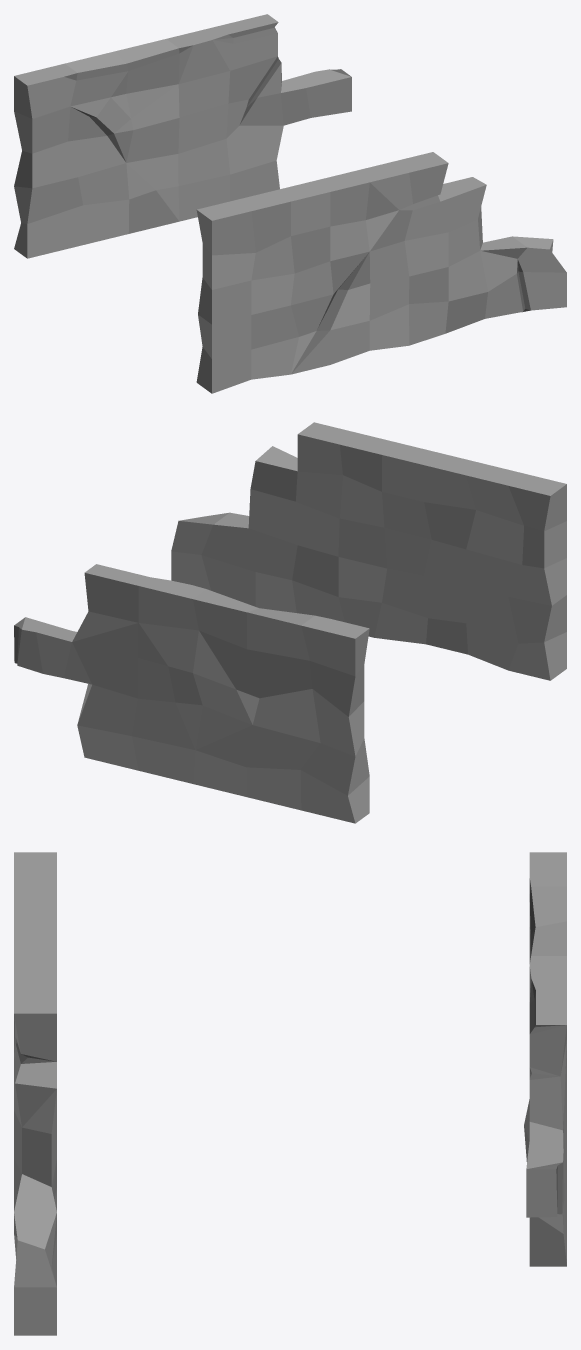
Rendered from Fixed Mesh 15.fbx.
3 views of the same model, one above another, from view 1: azimuth 30°, elevation 25°; view 2: azimuth 150°, elevation 25°; view 3: azimuth 270°, elevation 25° (orthographic). The views are drawn at different scales.
Visible parts, largest first — view 1: Cube.106, Cube.103; view 2: Cube.106, Cube.103; view 3: Cube.106, Cube.103.
Boxes of the visible parts, <box> form: Cube.106: <box>196,152,566,393</box>; Cube.103: <box>14,14,351,258</box>; Cube.106: <box>171,422,566,680</box>; Cube.103: <box>14,564,369,823</box>; Cube.106: <box>14,852,56,1335</box>; Cube.103: <box>524,852,566,1266</box>.
Bounding box in the file's own units: 920 × 428 × 889.
